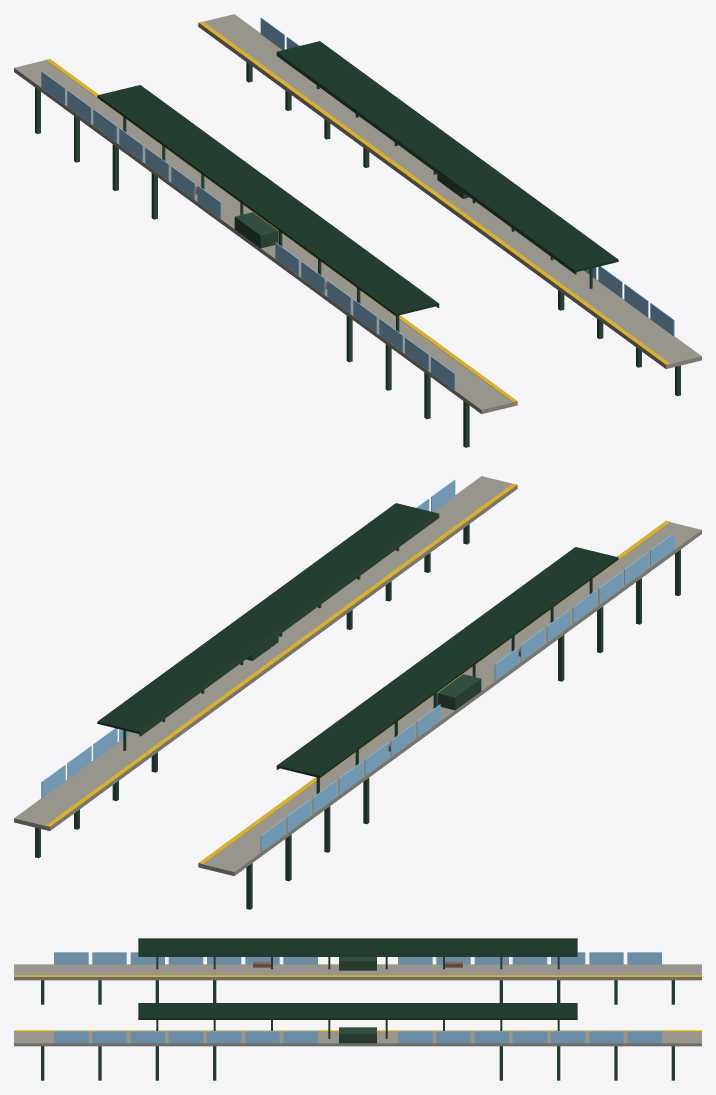
File: town_mw_station.glb
3 renders of one model, top to bottom at view 1: azimuth 30°, elevation 25°; view 2: azimuth 150°, elevation 25°; view 3: azimuth 270°, elevation 25°, orthographic. The views are drawn at different scales.
Visible parts, largest first — view 1: TownMwStation_body; view 2: TownMwStation_body; view 3: TownMwStation_body.
Boxes of the visible parts, box(x1,y1,x2,y2) form: TownMwStation_body: box(14, 14, 701, 447); TownMwStation_body: box(14, 476, 701, 909); TownMwStation_body: box(14, 938, 701, 1080).
Bounding box in the file's own units: 19.8 × 7.34 × 72.
